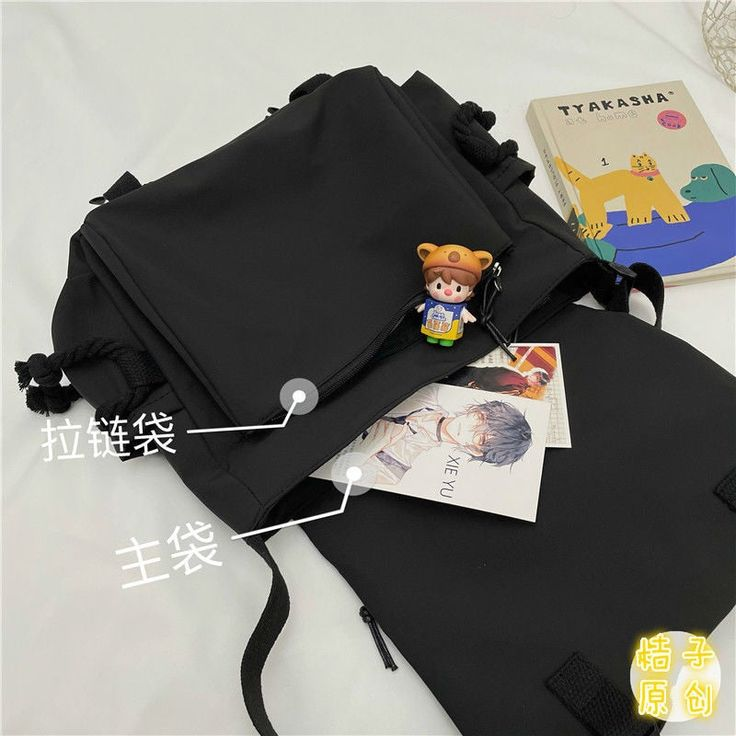nylon: (14, 62, 736, 736)
